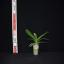leaf: (25, 29, 36, 41), (36, 31, 49, 41), (36, 38, 50, 43), (27, 39, 36, 43), (28, 43, 36, 47), (36, 42, 47, 44), (34, 33, 37, 40), (30, 44, 35, 47), (38, 42, 40, 44)
